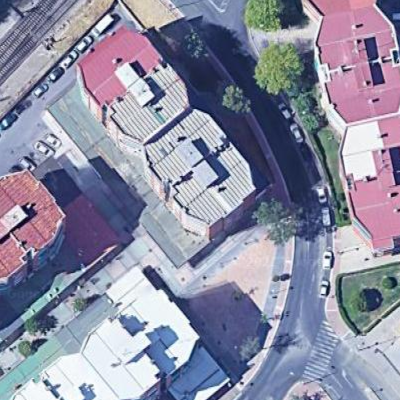tree: (249, 38, 309, 98), (251, 198, 304, 247), (243, 1, 293, 34), (218, 82, 254, 119), (180, 25, 209, 67), (344, 286, 369, 318), (23, 315, 45, 336), (16, 337, 37, 359)
